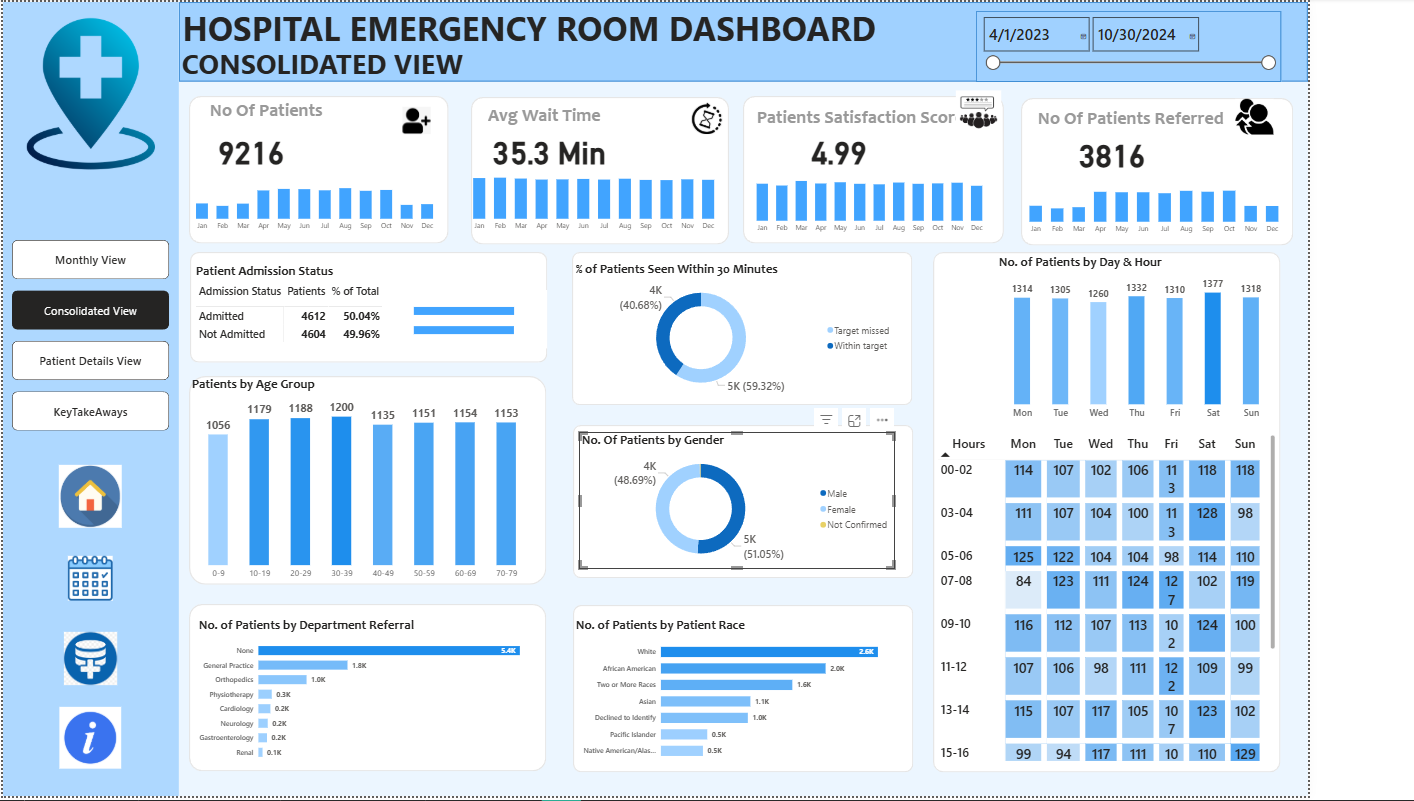

Layout of this report page (visuals, bound fields, positions):
{"tool":"powerbi","page":{"name":"Consolidated View","canvas":[2300,1400],"ordinal":1},"visuals":[{"type":"shape","box":[327.5,165,457.5,260],"z":0},{"type":"shape","box":[0,0,310,1400],"z":1000},{"type":"shape","box":[310,0,1990,140],"z":2000},{"type":"textbox","box":[310,0,1990,140],"z":3000},{"type":"textbox","box":[310,70,530,95],"z":4000},{"type":"card","fields":{"Values":["Hospital ER_Data.No. of Patients"]},"box":[360,222.5,155,75],"z":5000},{"type":"slicer","fields":{"Values":["Date Table.Date"]},"box":[1715,15,537.5,125],"z":6000},{"type":"textbox","box":[360,165,252.5,60],"z":7000},{"type":"columnChart","fields":{"Category":["Date Table.Month Name"],"Y":["Hospital ER_Data.No. of Patients"]},"box":[321.5,290,457.5,123],"z":8000},{"type":"shape","box":[825,167.5,455,260],"z":9000},{"type":"card","fields":{"Values":["Hospital ER_Data.AVG Wait Time"]},"box":[857.5,222.5,212.5,75],"z":10000},{"type":"textbox","box":[850,175,220,60],"z":11000},{"type":"columnChart","fields":{"Category":["Date Table.Month Name"],"Y":["Avg(Hospital ER_Data.Patient Waittime)"]},"box":[809,290,465,123],"z":12000},{"type":"shape","box":[1305,165,460,260],"z":13000},{"type":"card","fields":{"Values":["Avg(Hospital ER_Data.Patient Satisfaction Score)"]},"box":[1387.5,222.5,172.5,75],"z":14000},{"type":"shape","box":[330,440,630,195],"z":15000},{"type":"textbox","box":[1325,177.5,425,57.5],"z":16000},{"type":"columnChart","fields":{"Category":["Date Table.Month Name"],"Y":["Hospital ER_Data.Satisfaction Score"]},"box":[1310,292,436,123],"z":17000},{"type":"shape","box":[1795,170,480,260],"z":18000},{"type":"card","fields":{"Values":["Hospital ER_Data.No. Of Patients_Referred"]},"box":[1860,225,190,77.5],"z":19000},{"type":"textbox","box":[1820,180,432.5,57.5],"z":20000},{"type":"columnChart","fields":{"Category":["Date Table.Month Name"],"Y":["Hospital ER_Data.No. Of Patients_Referred"]},"box":[1789,295,480,123],"z":21000},{"type":"shape","box":[1002.5,440,600,270],"z":22000},{"type":"pivotTable","title":"Patient Admission Status","fields":{"Rows":["Hospital ER_Data.Admission Status"],"Values":["Hospital ER_Data.No. of Patients1","Hospital ER_Data.No. of Patients"]},"box":[335,460,605,150],"z":23000},{"type":"barChart","fields":{"Category":["Hospital ER_Data.Admission Status"],"Y":["Hospital ER_Data.No. of Patients"]},"box":[720,507.5,240,102.5],"z":24000},{"type":"shape","box":[328,660,630,368],"z":25000},{"type":"shape","box":[1640,440,612.5,917.5],"z":26000},{"type":"clusteredColumnChart","title":"Patients by Age Group","fields":{"Category":["Hospital ER_Data.Age Group"],"Y":["Hospital ER_Data.No. of Patients"]},"box":[328,660,612.5,367.5],"z":27000},{"type":"shape","box":[328,1061.5,630,295],"z":28000},{"type":"clusteredBarChart","fields":{"Category":["Hospital ER_Data.Department Referral"],"Y":["Hospital ER_Data.No. of Patients"]},"box":[340,1085,600,262.5],"z":29000},{"type":"donutChart","title":"% of Patients Seen Within 30 Minutes","fields":{"Category":["Hospital ER_Data.Wait_Time Status"],"Y":["Hospital ER_Data.No. of Patients"]},"box":[1005,457.5,572.5,242.5],"z":30000},{"type":"shape","box":[1005,745,600,270],"z":31000},{"type":"donutChart","title":"No. Of Patients by Gender","fields":{"Y":["Hospital ER_Data.No. of Patients"],"Category":["Hospital ER_Data.Patient Gender"]},"box":[1015,757.5,557.5,242.5],"z":32000},{"type":"shape","box":[1005,1062.5,600,295],"z":33000},{"type":"clusteredBarChart","fields":{"Y":["Hospital ER_Data.No. of Patients"],"Category":["Hospital ER_Data.Patient Race"]},"box":[1005,1085,567.5,262.5],"z":34000},{"type":"pivotTable","fields":{"Rows":["Hospital ER_Data.Wait_Time Interval"],"Columns":["Date Table.Day_Name"],"Values":["Hospital ER_Data.No. of Patients"]},"box":[1642.5,757.5,605,585],"z":35000},{"type":"columnChart","title":"No. of Patients by Day & Hour","fields":{"Category":["Date Table.Day_Name"],"Y":["Hospital ER_Data.No. of Patients"]},"box":[1750,445,497.5,300],"z":36000},{"type":"image","box":[697.5,180,62.5,57.5],"z":37000},{"type":"image","box":[1202.5,172.5,77.5,65],"z":38000},{"type":"image","box":[1675,150,90,92.5],"z":39000},{"type":"image","box":[2160,165,92.5,72.5],"z":40000},{"type":"image","box":[15,22.5,277.5,277.5],"z":41000},{"type":"pageNavigator","box":[15,420,277.5,337.5],"z":42000},{"type":"image","box":[87.1,810.3,135.5,120.9],"z":43000},{"type":"image","box":[87.1,972.4,135.5,89.5],"z":44000},{"type":"image","box":[87.1,1105.4,135.5,104],"z":45000},{"type":"image","box":[87.1,1238.4,135.5,118.5],"z":46000}]}

Visuals, with their boxes on the page's 2300x1400 design canvas (x1, y1, x2, y2). These are canvas units, not pixel positions in the 1414x801 screenshot, which may show the page scaled, cropped or inside an application window:
shape: Rect(328, 165, 785, 425)
shape: Rect(0, 0, 310, 1400)
shape: Rect(310, 0, 2300, 140)
textbox: Rect(310, 0, 2300, 140)
textbox: Rect(310, 70, 840, 165)
card - Hospital ER_Data.No. of Patients: Rect(360, 222, 515, 298)
slicer - Date Table.Date: Rect(1715, 15, 2252, 140)
textbox: Rect(360, 165, 612, 225)
columnChart - Date Table.Month Name x Hospital ER_Data.No. of Patients: Rect(322, 290, 779, 413)
shape: Rect(825, 168, 1280, 428)
card - Hospital ER_Data.AVG Wait Time: Rect(858, 222, 1070, 298)
textbox: Rect(850, 175, 1070, 235)
columnChart - Date Table.Month Name x Avg(Hospital ER_Data.Patient Waittime): Rect(809, 290, 1274, 413)
shape: Rect(1305, 165, 1765, 425)
card - Avg(Hospital ER_Data.Patient Satisfaction Score): Rect(1388, 222, 1560, 298)
shape: Rect(330, 440, 960, 635)
textbox: Rect(1325, 178, 1750, 235)
columnChart - Date Table.Month Name x Hospital ER_Data.Satisfaction Score: Rect(1310, 292, 1746, 415)
shape: Rect(1795, 170, 2275, 430)
card - Hospital ER_Data.No. Of Patients_Referred: Rect(1860, 225, 2050, 302)
textbox: Rect(1820, 180, 2252, 238)
columnChart - Date Table.Month Name x Hospital ER_Data.No. Of Patients_Referred: Rect(1789, 295, 2269, 418)
shape: Rect(1002, 440, 1602, 710)
"Patient Admission Status" pivotTable: Rect(335, 460, 940, 610)
barChart - Hospital ER_Data.Admission Status x Hospital ER_Data.No. of Patients: Rect(720, 508, 960, 610)
shape: Rect(328, 660, 958, 1028)
shape: Rect(1640, 440, 2252, 1358)
"Patients by Age Group" clusteredColumnChart: Rect(328, 660, 940, 1028)
shape: Rect(328, 1062, 958, 1356)
clusteredBarChart - Hospital ER_Data.Department Referral x Hospital ER_Data.No. of Patients: Rect(340, 1085, 940, 1348)
"% of Patients Seen Within 30 Minutes" donutChart: Rect(1005, 458, 1578, 700)
shape: Rect(1005, 745, 1605, 1015)
"No. Of Patients by Gender" donutChart: Rect(1015, 758, 1572, 1000)
shape: Rect(1005, 1062, 1605, 1358)
clusteredBarChart - Hospital ER_Data.No. of Patients x Hospital ER_Data.Patient Race: Rect(1005, 1085, 1572, 1348)
pivotTable - Hospital ER_Data.Wait_Time Interval x Date Table.Day_Name: Rect(1642, 758, 2248, 1342)
"No. of Patients by Day & Hour" columnChart: Rect(1750, 445, 2248, 745)
image: Rect(698, 180, 760, 238)
image: Rect(1202, 172, 1280, 238)
image: Rect(1675, 150, 1765, 242)
image: Rect(2160, 165, 2252, 238)
image: Rect(15, 22, 292, 300)
pageNavigator: Rect(15, 420, 292, 758)
image: Rect(87, 810, 223, 931)
image: Rect(87, 972, 223, 1062)
image: Rect(87, 1105, 223, 1209)
image: Rect(87, 1238, 223, 1357)
